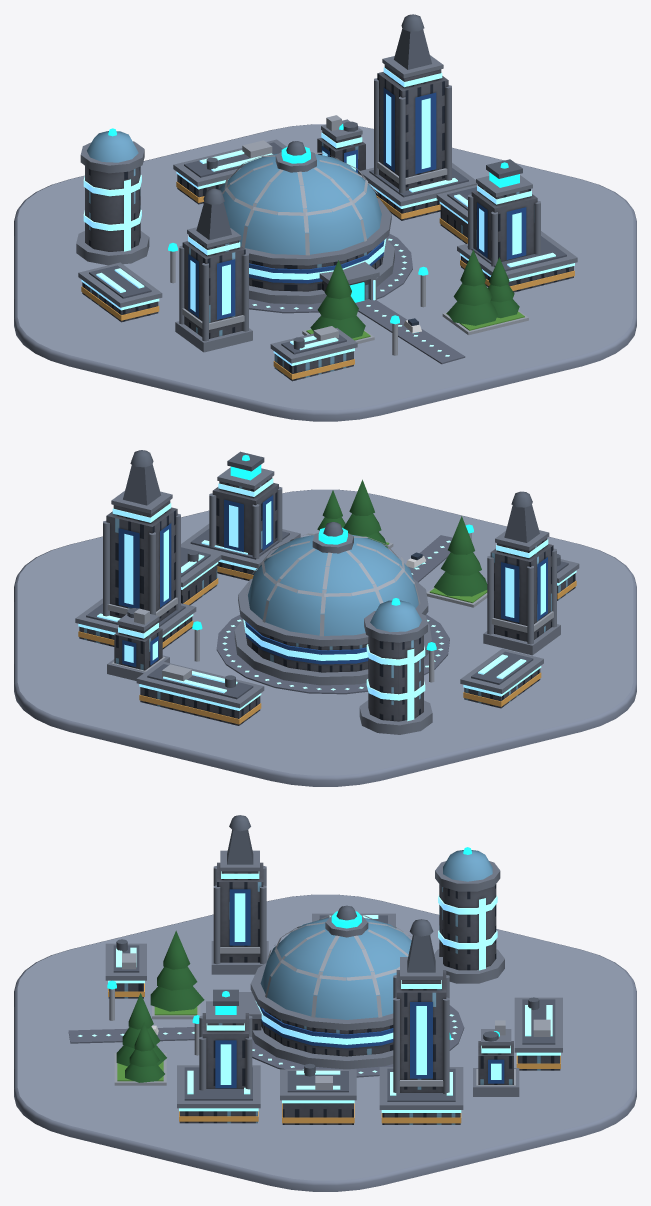
Rendered from district_scifi_b_blue.glb.
3 views of the same model, one above another, from view 1: azimuth 30°, elevation 25°; view 2: azimuth 150°, elevation 25°; view 3: azimuth 270°, elevation 25° (orthographic).
Parts seen in each view (by area): view 1: district_scifi_b_blue; view 2: district_scifi_b_blue; view 3: district_scifi_b_blue.
Part boxes in pixels (x1,y1,x2,y2): district_scifi_b_blue: [14, 14, 636, 421]; district_scifi_b_blue: [14, 450, 636, 786]; district_scifi_b_blue: [14, 815, 636, 1191].
Bounding box in the file's own units: 1.92 × 0.6033 × 1.75.
Materials: 3 (1 with a texture image).
